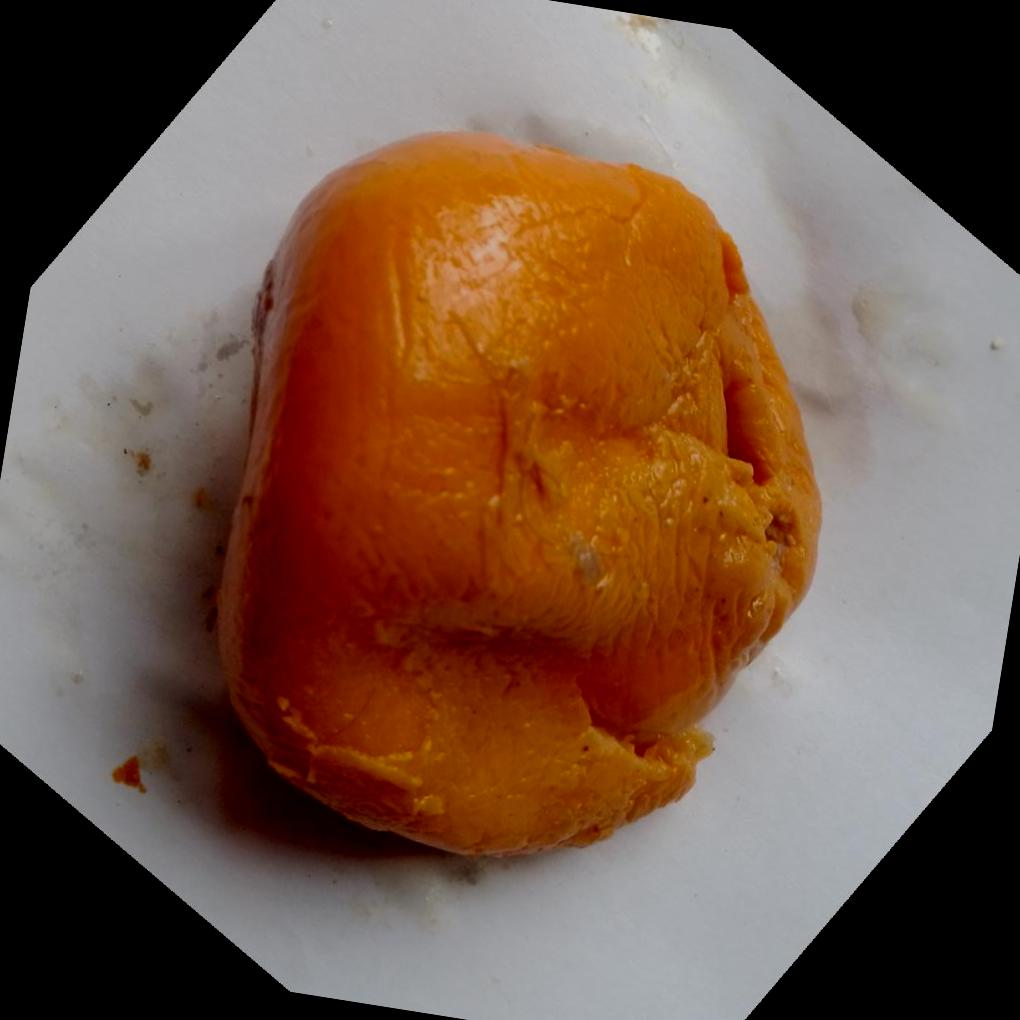FreshOrange: (206, 127, 820, 861)
